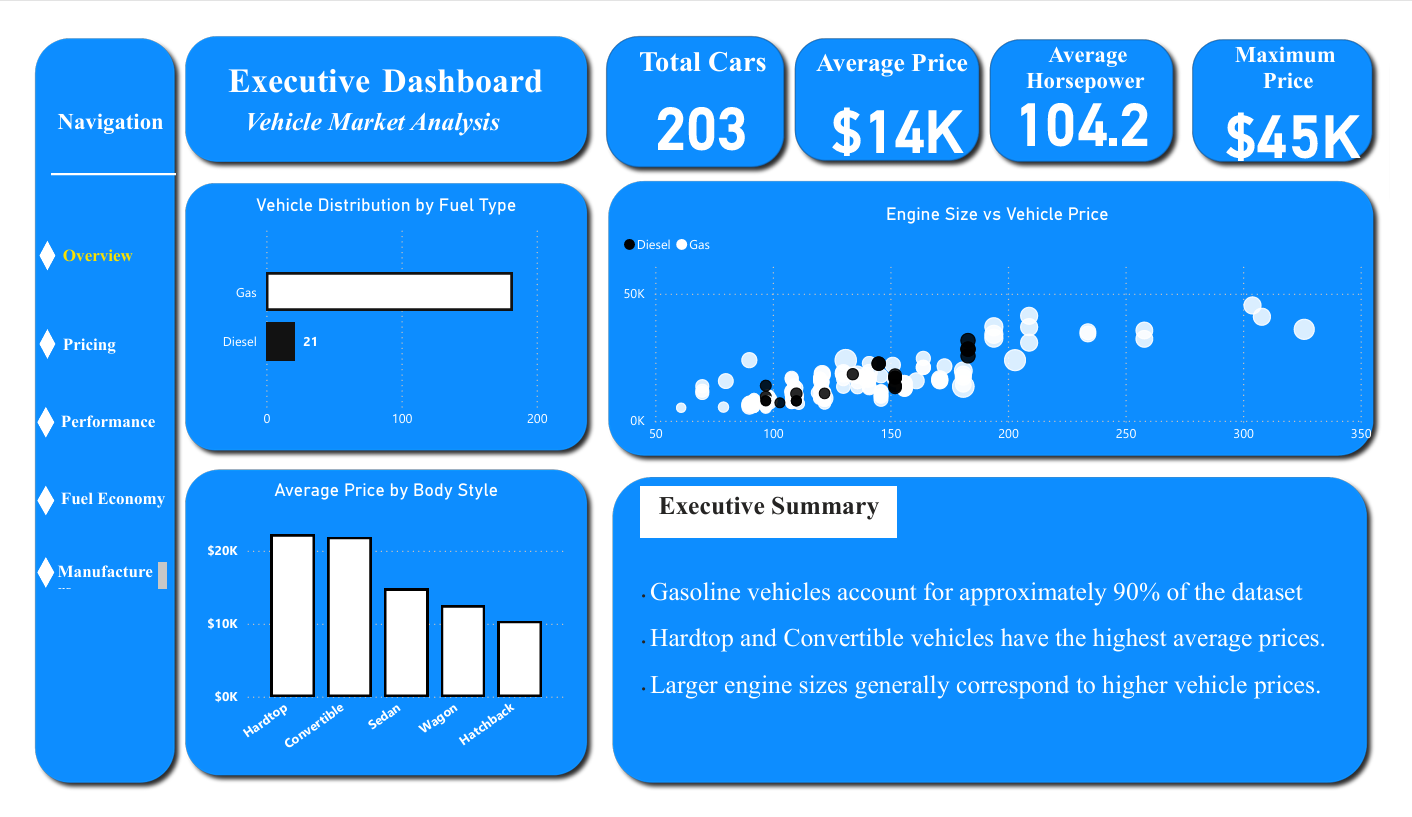

Layout of this report page (visuals, bound fields, positions):
{"tool":"powerbi","page":{"name":"Executive Overview","canvas":[1280,720],"ordinal":0},"visuals":[{"type":"shape","box":[542.3,413.8,725.6,305.6],"z":0},{"type":"shape","box":[141.1,407.5,394.9,304],"z":1000},{"type":"shape","box":[141.1,137.9,394.9,269.6],"z":2000},{"type":"shape","box":[141.1,0,394.9,136.3],"z":3000},{"type":"shape","box":[1086.1,3.1,186.5,133.2],"z":4000},{"type":"shape","box":[896.5,3.1,189.6,133.2],"z":5000},{"type":"shape","box":[713.1,1.6,191.2,133.2],"z":6000},{"type":"shape","box":[536,0,184.9,141.1],"z":7000},{"type":"card","fields":{"Values":["Measures (2).Total Cars"]},"box":[548.3,40.9,172.8,94.8],"z":8000},{"type":"shape","box":[0,1.6,148.9,717.8],"z":9000},{"type":"textbox","box":[559.4,13,152.4,52],"z":10000},{"type":"card","fields":{"Values":["Measures (2).Average Price"]},"box":[741.5,44.6,152.4,92.9],"z":11000},{"type":"textbox","box":[730.4,13,172.8,63.2],"z":12000},{"type":"textbox","box":[903.2,9.3,187.7,65],"z":13000},{"type":"card","fields":{"Values":["Measures (2).Average Horsepower"]},"box":[895.8,33.5,191.4,104.1],"z":14000},{"type":"card","fields":{"Values":["Measures (2).Maximum Price"]},"box":[1115.1,44.6,146.8,102.2],"z":15000},{"type":"textbox","box":[1126.2,9.3,122.7,63.2],"z":16000},{"type":"shape","box":[537.6,136.3,736.6,275.8],"z":17000},{"type":"clusteredBarChart","title":"Vehicle Distribution by Fuel Type","fields":{"Category":["Cars.Fuel Type"],"Y":["Measures (2).Total Cars"]},"box":[177.1,156.7,322.9,228.8],"z":18000},{"type":"clusteredColumnChart","fields":{"Y":["Measures (2).Average Price"],"Category":["Cars.Body Style"]},"box":[164.6,424.7,347.9,274.3],"z":19000},{"type":"scatterChart","title":"Engine Size vs Vehicle Price","fields":{"Size":["Sum(Cars.Horsepower)"],"Series":["Cars.Fuel Type"],"Y":["Cars.Price"],"X":["Cars.Engine Size"]},"box":[556.4,166.1,711.5,233.5],"z":20000},{"type":"textbox","box":[126.9,26.6,421.6,84.6],"z":21000},{"type":"textbox","box":[200.6,70.5,299.3,45.4],"z":22000},{"type":"shape","box":[24.2,76.2,117.1,124.5],"z":23000},{"type":"textbox","box":[24.2,72.5,117.1,48.3],"z":24000},{"type":"shape","box":[12.5,200.6,15.7,28.2],"z":25000},{"type":"shape","box":[12.5,283.7,15.7,28.2],"z":26000},{"type":"textbox","box":[29.8,200.6,108.1,42.3],"z":27000},{"type":"textbox","box":[29.8,285.2,97.2,51.7],"z":28000},{"type":"shape","box":[11,357.3,15.7,28.2],"z":29000},{"type":"textbox","box":[28.2,357.3,133.2,34.5],"z":30000},{"type":"shape","box":[11,431,15.7,28.2],"z":31000},{"type":"textbox","box":[28.2,429.4,148.9,37.6],"z":32000},{"type":"textbox","box":[25.1,498.4,112.8,34.5],"z":33000},{"type":"shape","box":[11,498.4,15.7,28.2],"z":34000},{"type":"textbox","box":[562.6,512.5,669.2,175.5],"z":35000},{"type":"textbox","box":[576.7,431.7,241.7,48.3],"z":36000}]}

Visuals, with their boxes in screenshot pixels (x1, y1, x2, y2), scaled from the page's 1280x720 canvas onto the 1412x817 screenshot:
shape: 598:470:1399:816
shape: 156:462:591:807
shape: 156:156:591:462
shape: 156:0:591:155
shape: 1198:4:1404:155
shape: 989:4:1198:155
shape: 787:2:998:153
shape: 591:0:795:160
card - Measures (2).Total Cars: 605:46:795:154
shape: 0:2:164:816
textbox: 617:15:785:74
card - Measures (2).Average Price: 818:51:986:156
textbox: 806:15:996:86
textbox: 996:11:1203:84
card - Measures (2).Average Horsepower: 988:38:1199:156
card - Measures (2).Maximum Price: 1230:51:1392:167
textbox: 1242:11:1378:82
shape: 593:155:1406:468
"Vehicle Distribution by Fuel Type" clusteredBarChart: 195:178:552:437
clusteredColumnChart - Measures (2).Average Price x Cars.Body Style: 182:482:565:793
"Engine Size vs Vehicle Price" scatterChart: 614:188:1399:453
textbox: 140:30:605:126
textbox: 221:80:551:132
shape: 27:86:156:228
textbox: 27:82:156:137
shape: 14:228:31:260
shape: 14:322:31:354
textbox: 33:228:152:276
textbox: 33:324:140:382
shape: 12:405:29:437
textbox: 31:405:178:445
shape: 12:489:29:521
textbox: 31:487:195:530
textbox: 28:566:152:605
shape: 12:566:29:598
textbox: 621:582:1359:781
textbox: 636:490:903:545
